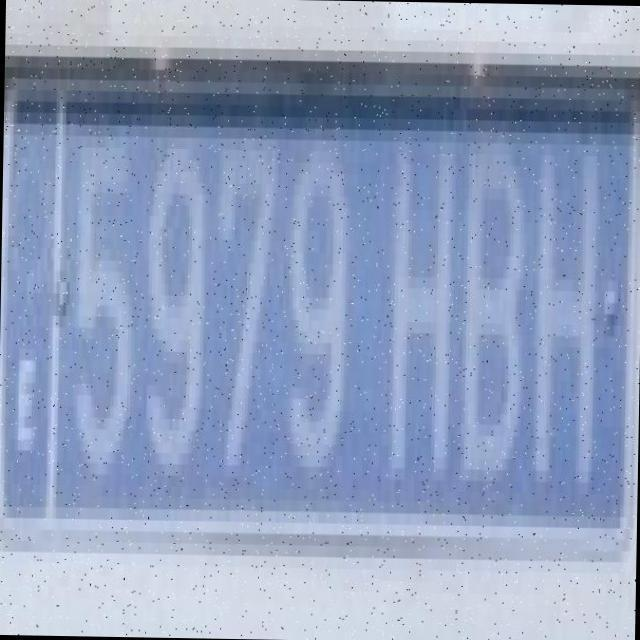License Plate: (0, 76, 640, 544)
